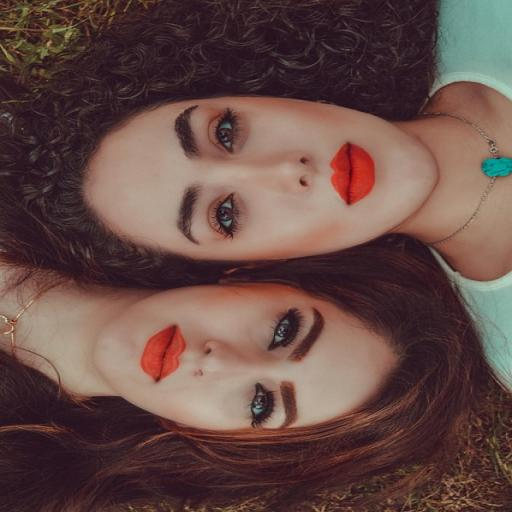lipstick: (331, 143, 374, 204), (141, 326, 186, 381)
